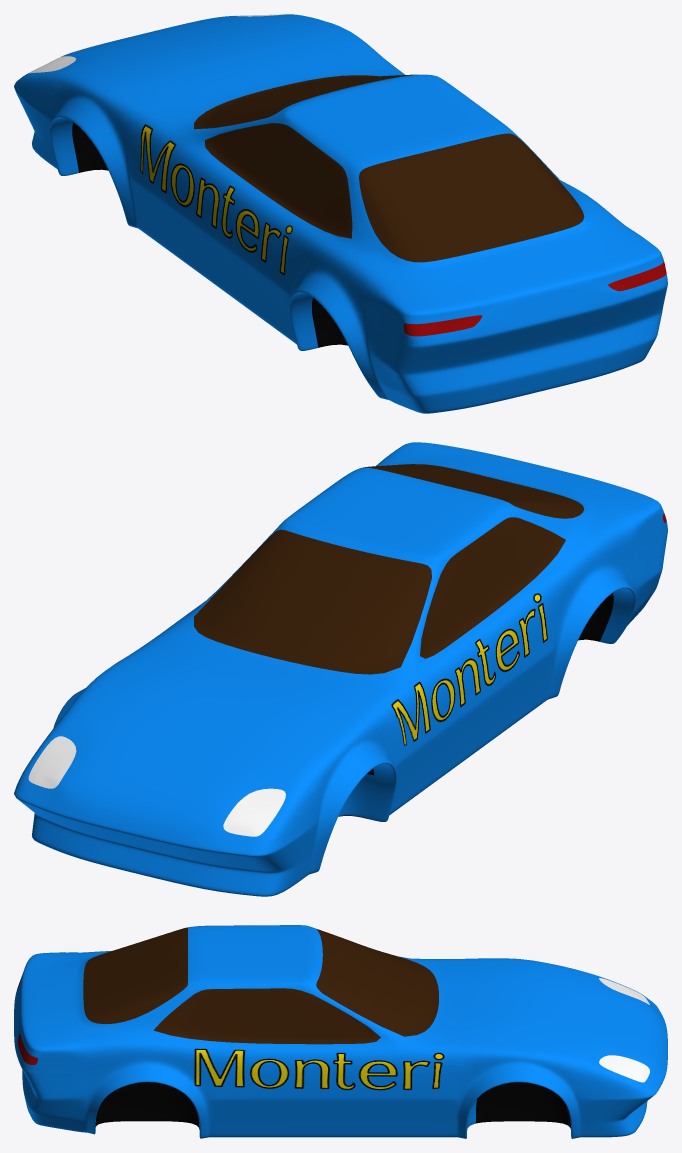
The model's file is MonteriBody.glb.
3 renders of one model, top to bottom at view 1: azimuth 30°, elevation 25°; view 2: azimuth 150°, elevation 25°; view 3: azimuth 270°, elevation 25°, orthographic. The views are drawn at different scales.
Parts seen in each view (by area): view 1: Monteri; view 2: Monteri; view 3: Monteri.
Boxes of the visible parts, <box> form: Monteri: <box>14,14,667,413</box>; Monteri: <box>14,442,667,896</box>; Monteri: <box>14,925,667,1138</box>.
Size of the model in its own units: 1.88 by 1.08 by 4.57.
Materials: 7 (7 with a texture image).
